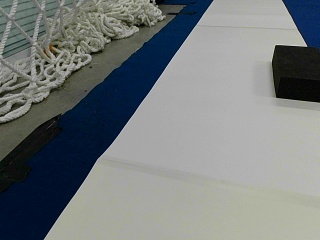block: (271, 44, 319, 101)
